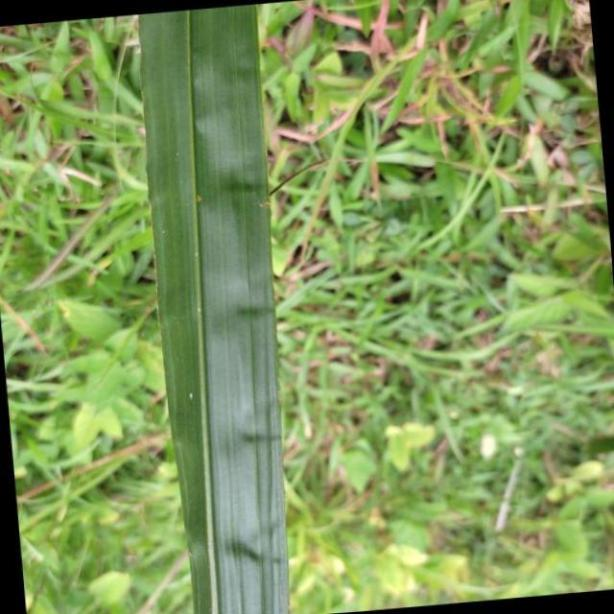Boron: (136, 0, 265, 614)
